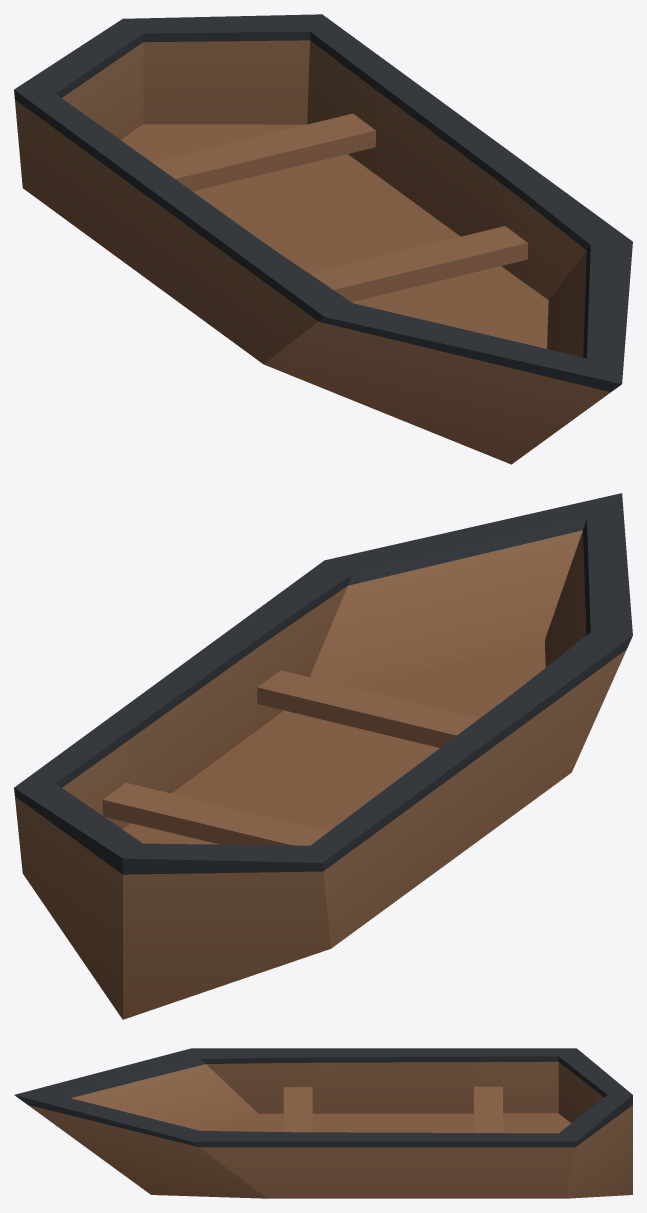
Rendered from boat.fbx.
3 renders of one model, top to bottom at view 1: azimuth 30°, elevation 25°; view 2: azimuth 150°, elevation 25°; view 3: azimuth 270°, elevation 25°, orthographic. The views are drawn at different scales.
Parts seen in each view (by area): view 1: boat; view 2: boat; view 3: boat.
Boxes of the visible parts, <box> form: boat: <box>14,14,632,464</box>; boat: <box>14,493,632,1019</box>; boat: <box>14,1048,632,1198</box>.
Size of the model in its own units: 200 by 100 by 561.
